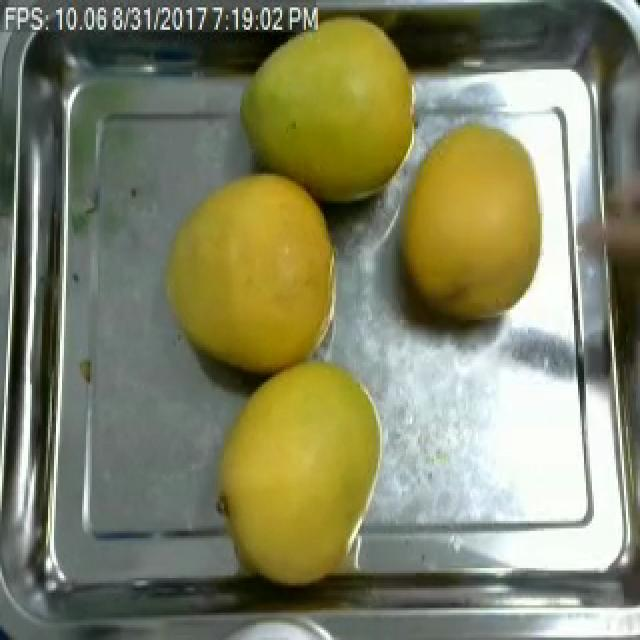fruit: (204, 352, 392, 598), (152, 161, 352, 385), (230, 10, 426, 218), (382, 112, 554, 337)
